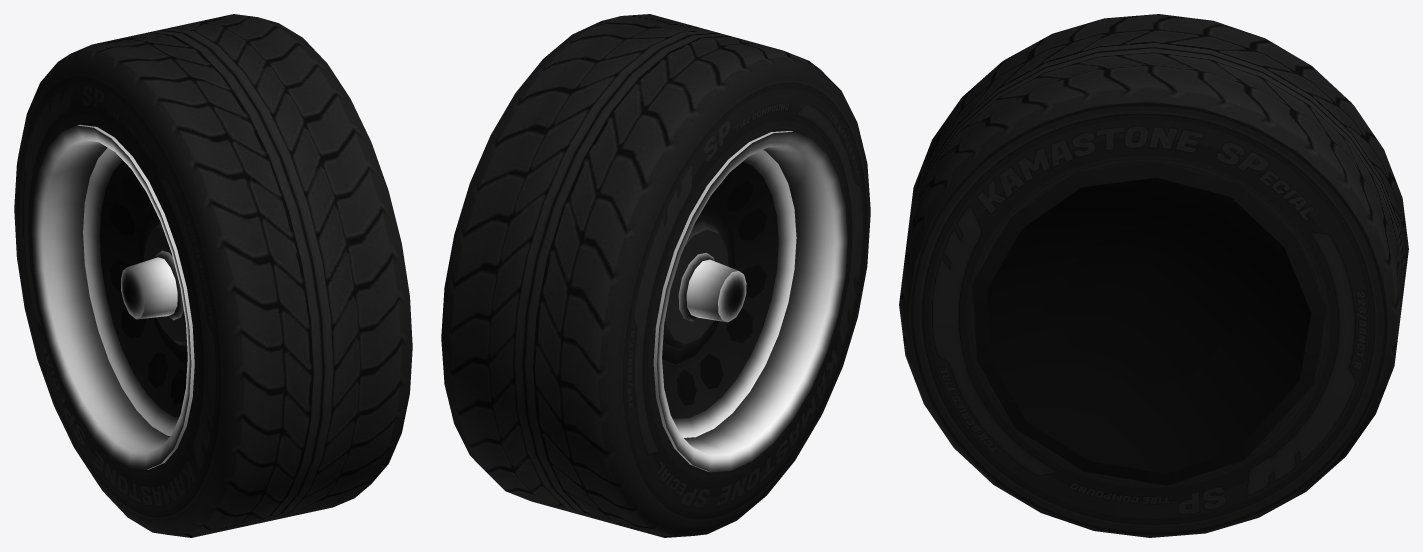
Rendered from shvan92_wheelcustom_fl_rb1c_tire_1k_0.002_lev3.glb.
3 renders of one model, left to right at view 1: azimuth 30°, elevation 25°; view 2: azimuth 150°, elevation 25°; view 3: azimuth 270°, elevation 25°, orthographic.
Parts seen in each view (by area): view 1: shvan92_wheelcustom_fl_rb1c_tire_1k_0.002_lev3; view 2: shvan92_wheelcustom_fl_rb1c_tire_1k_0.002_lev3; view 3: shvan92_wheelcustom_fl_rb1c_tire_1k_0.002_lev3.
Part boxes in pixels (x1,y1,x2,y2): shvan92_wheelcustom_fl_rb1c_tire_1k_0.002_lev3: [14, 14, 412, 537]; shvan92_wheelcustom_fl_rb1c_tire_1k_0.002_lev3: [441, 14, 870, 537]; shvan92_wheelcustom_fl_rb1c_tire_1k_0.002_lev3: [899, 14, 1408, 537].
Size of the model in its own units: 0.3397 by 0.7 by 0.7105.
Materials: 1 (1 with a texture image).
